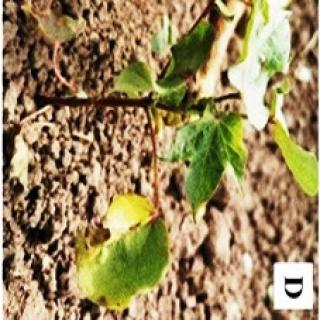wilt: (70, 190, 166, 304)
